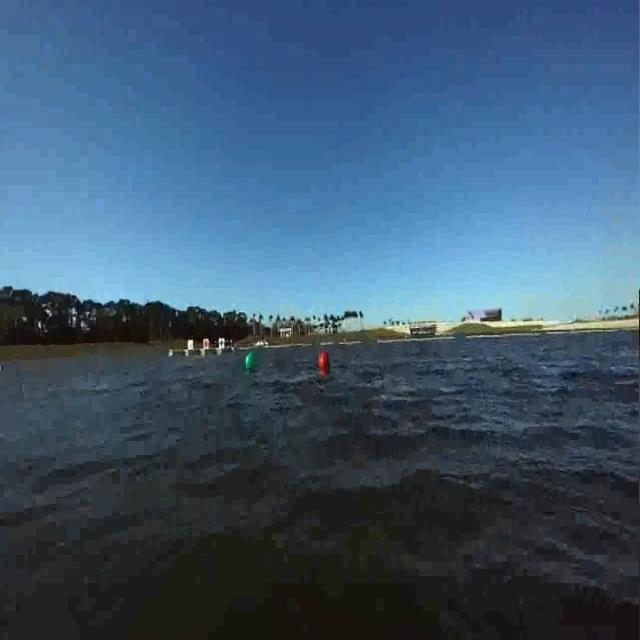green-buoy: (242, 346, 254, 377)
red-buoy: (313, 340, 338, 401)
